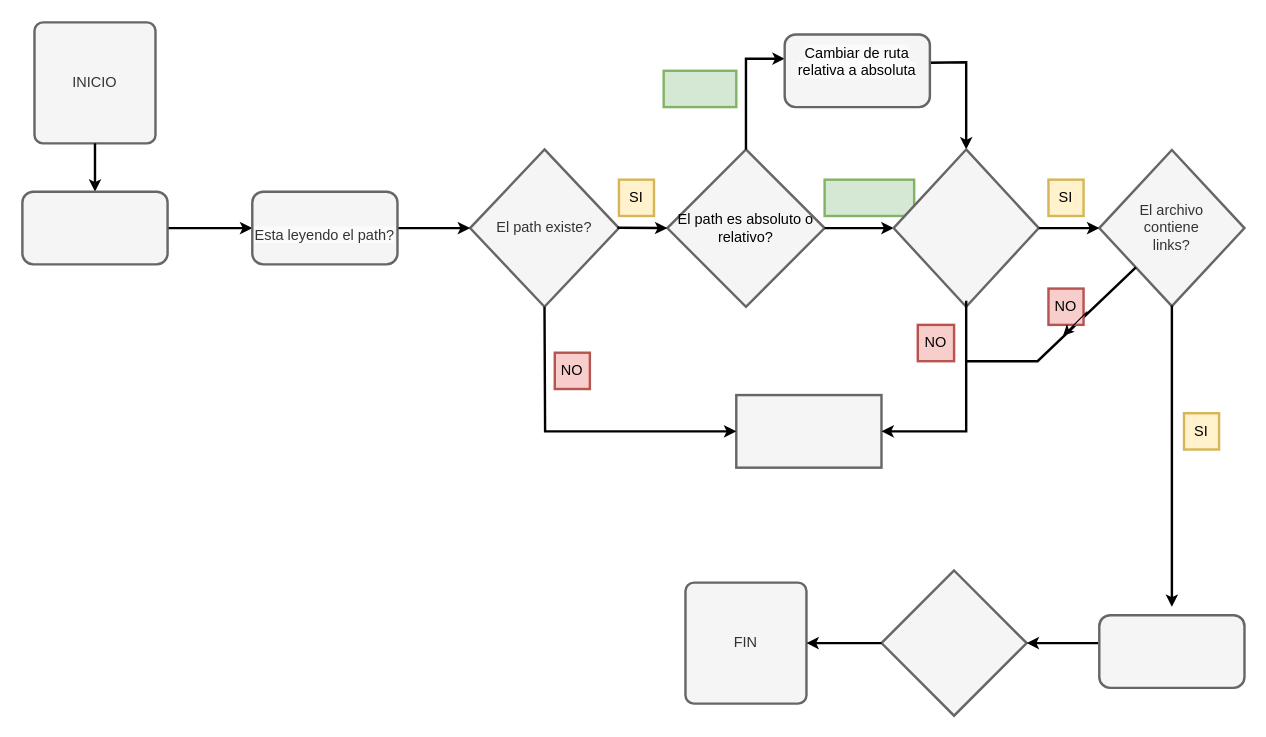
The diagram is 1266 pixels wide and 737 high, and some of its shapes have lost their labels. The shapes that lost their labels are listed below. From the top down, each one's centre as x and y in pixels, then its label:
At point (699, 88): "Es relativo".
At point (869, 197): "Es absoluto".
At point (94, 227): "Recibe la funcion mdLinks(path, options)".
At point (965, 227): "Es un archivo .md?".
At point (808, 430): "mensaje de error (FIN)".
At point (953, 642): "Los links son válidos?".
At point (1171, 650): "Traer los links".
